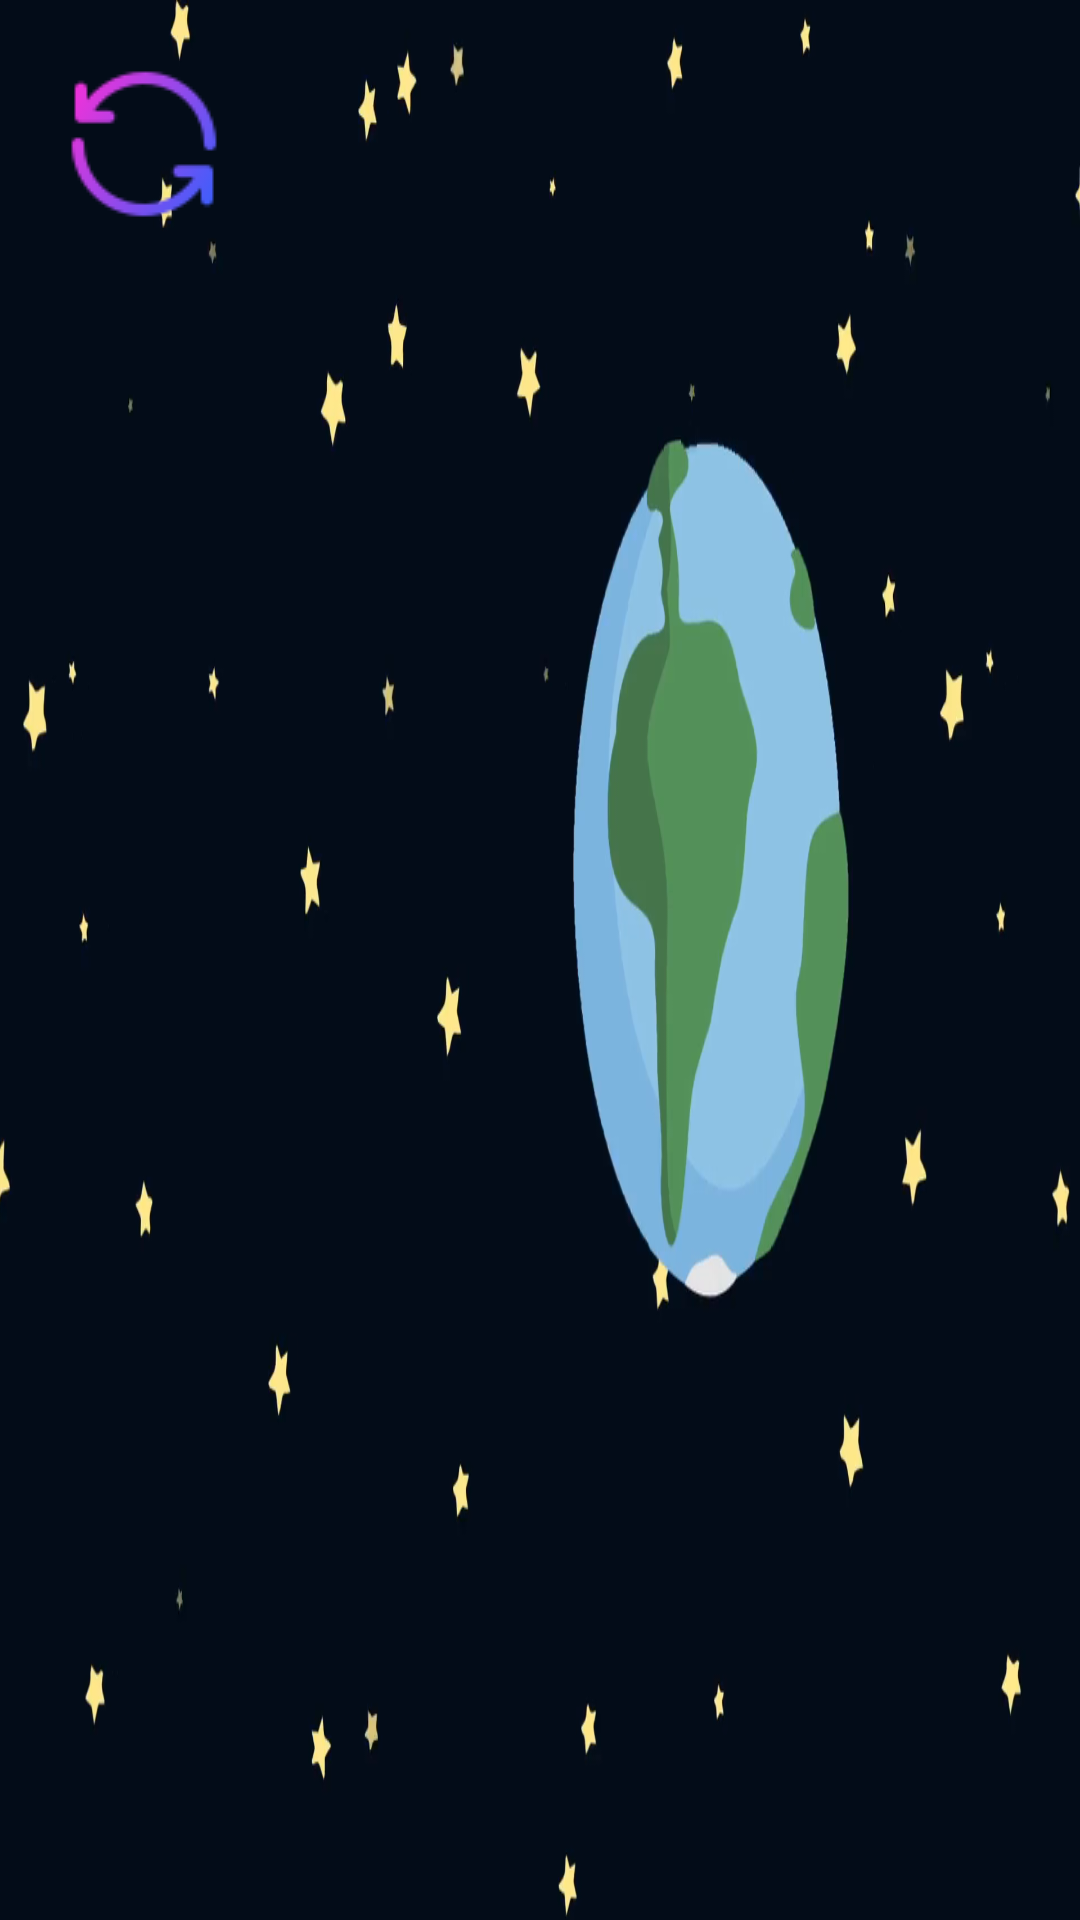

Icon click points for this 1080*1920 phone screenshot, format (x=x, y=y):
restart: (x=144, y=149)
